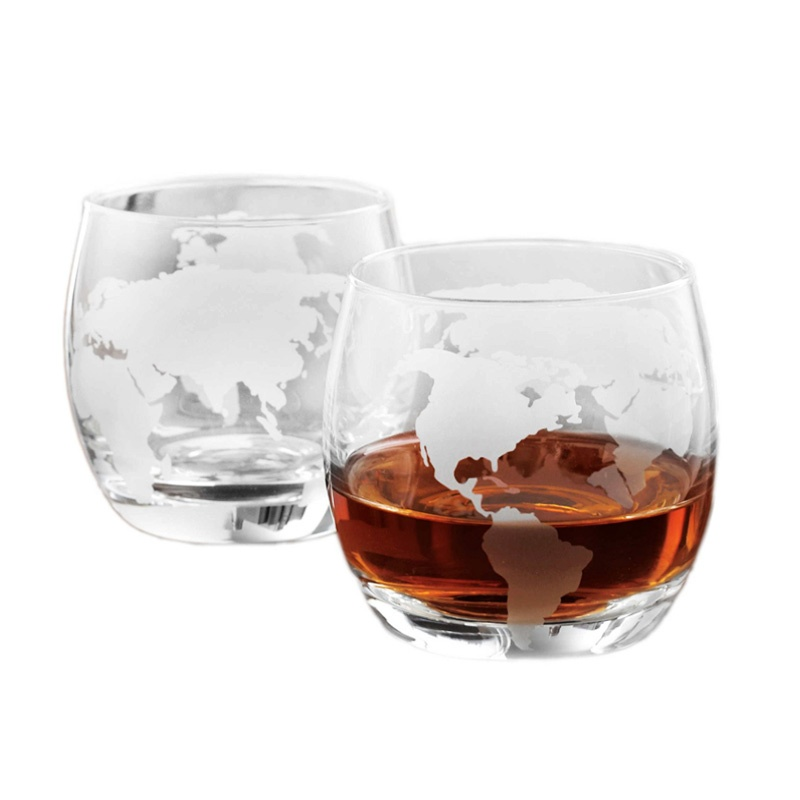whiskey: (348, 235, 711, 671)
